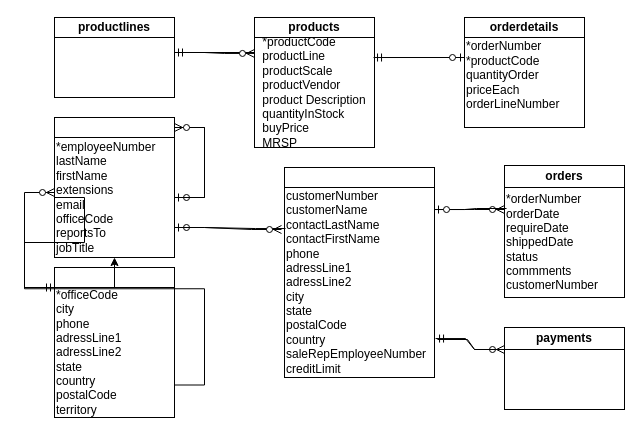
The diagram is 642 pixels wide and 435 high, and some of its shapes have lost their labels. Each missing label, with the centre of its shape:
*customerNumber *checkNumber paymentDate amount: (x=564, y=379)
*productLine TextDescription htmlDescription image: (x=114, y=67)
customers: (x=359, y=177)
employee: (x=114, y=127)
office: (x=114, y=277)
